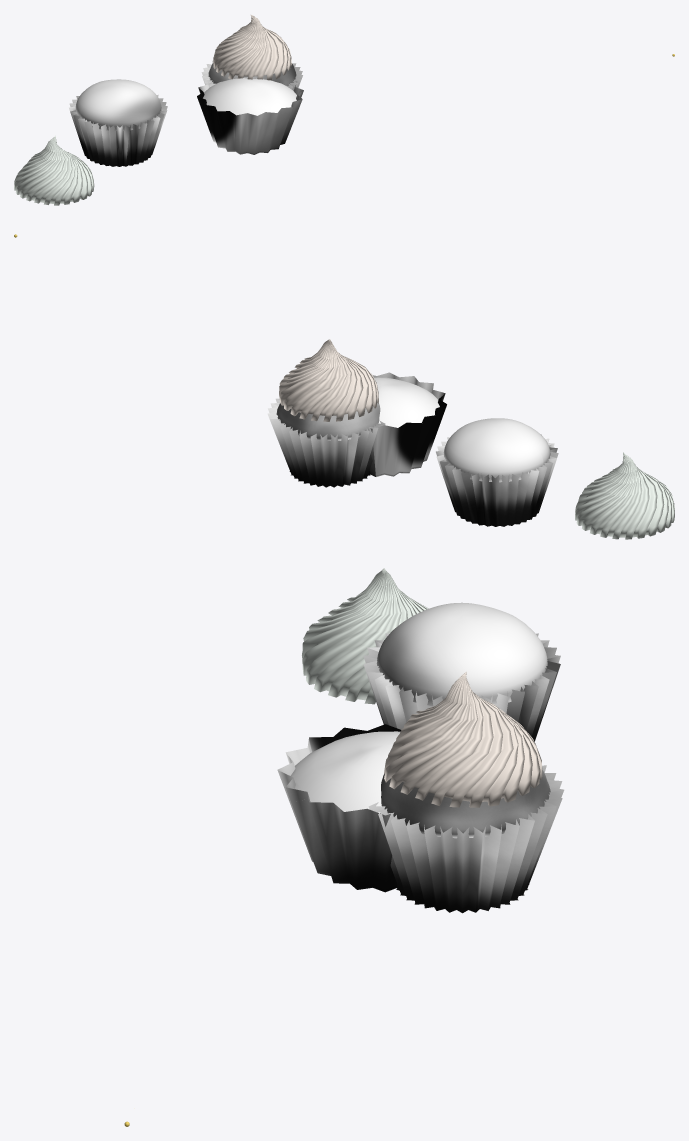
File: cupcake.glb
3 renders of one model, top to bottom at view 1: azimuth 30°, elevation 25°; view 2: azimuth 150°, elevation 25°; view 3: azimuth 270°, elevation 25°, orthographic. The views are drawn at different scales.
Visible parts, largest first — view 1: cupcake box, icing, cup, icing.002, cake, cupcake dough, cake.003, cup.003; view 2: icing, icing.002, cup, cake, cup.003, cupcake box, cupcake dough, cake.003; view 3: icing.002, cup.003, cake, cupcake box, icing, cupcake dough, cake.003, cup.
Boxes of the visible parts, <box> form: cupcake box: <box>197,79,303,154</box>; icing: <box>14,135,94,205</box>; cup: <box>69,94,167,166</box>; icing.002: <box>213,15,291,80</box>; cake: <box>75,79,161,130</box>; cupcake dough: <box>203,78,296,115</box>; cake.003: <box>208,63,296,85</box>; cup.003: <box>201,60,302,90</box>; icing: <box>575,452,674,539</box>; icing.002: <box>279,339,378,421</box>; cup: <box>436,434,558,526</box>; cake: <box>443,418,550,482</box>; cup.003: <box>267,398,385,487</box>; cupcake box: <box>369,372,446,476</box>; cupcake dough: <box>374,377,439,427</box>; cake.003: <box>276,402,380,440</box>; icing.002: <box>384,671,542,807</box>; cup.003: <box>368,765,564,913</box>; cake: <box>376,602,547,706</box>; cupcake box: <box>277,724,401,892</box>; icing: <box>302,568,428,704</box>; cupcake dough: <box>290,731,400,813</box>; cake.003: <box>381,770,550,838</box>; cup: <box>363,633,560,741</box>.
Size of what is drawn, in the model's own units: 18.66 by 3.21 by 6.02.
Materials: 10 (5 with a texture image).
